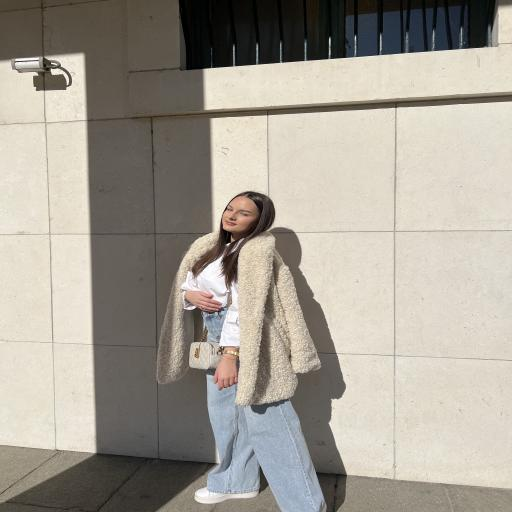marija: (219, 191, 263, 235)
